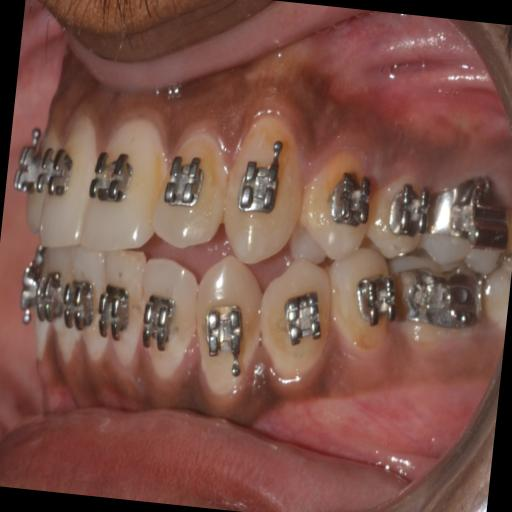correct_brace: (254, 249, 339, 395), (234, 130, 292, 222), (196, 293, 254, 385), (85, 141, 142, 216), (278, 282, 330, 352), (158, 151, 210, 218), (136, 290, 176, 360)
incorrect_brace: (148, 117, 232, 253), (132, 255, 202, 388)
